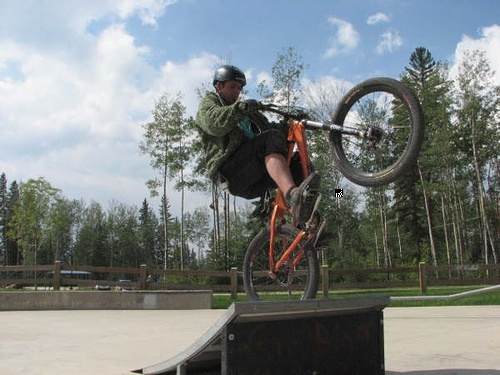car: (244, 78, 426, 301)
person: (196, 64, 322, 229)
person/foot: (290, 171, 320, 222)
person/hand: (237, 99, 258, 115)
person/head: (212, 65, 246, 105)
